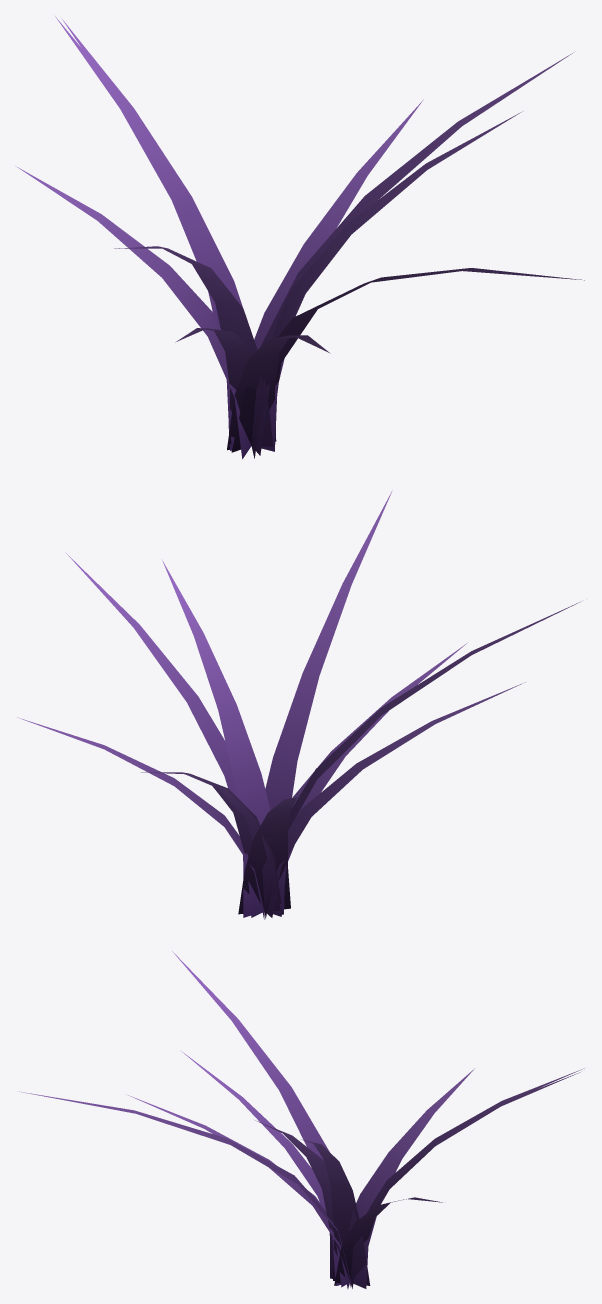
File: blades_violet.glb
3 views of the same model, one above another, from view 1: azimuth 30°, elevation 25°; view 2: azimuth 150°, elevation 25°; view 3: azimuth 270°, elevation 25° (orthographic). The views are drawn at different scales.
Parts seen in each view (by area): view 1: blades_violet; view 2: blades_violet; view 3: blades_violet.
Part boxes in pixels (x1,y1,x2,y2): blades_violet: (16, 16, 584, 459); blades_violet: (17, 491, 580, 919); blades_violet: (19, 951, 584, 1289).
Bounding box in the file's own units: 0.8087 × 0.4981 × 1.06.
